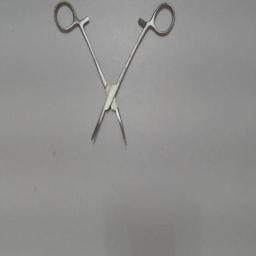Crile Artery Forceps: (46, 0, 180, 156)
